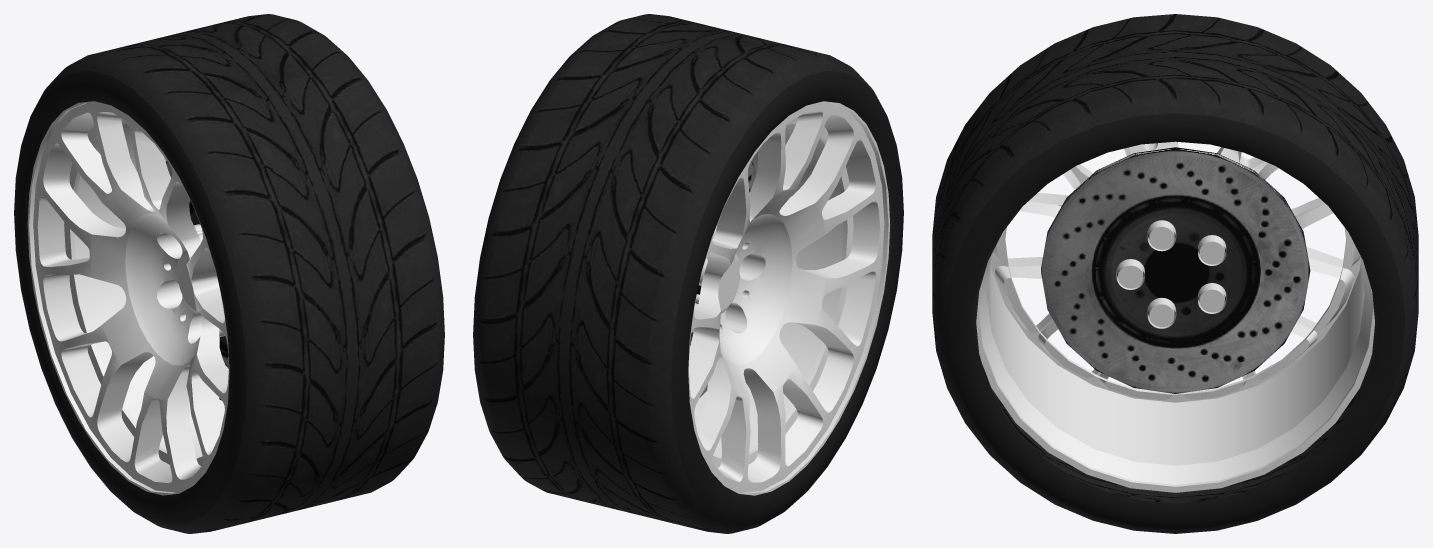
Rendered from 04_BBS_CH.fbx.
3 views of the same model, side by side, from view 1: azimuth 30°, elevation 25°; view 2: azimuth 150°, elevation 25°; view 3: azimuth 270°, elevation 25° (orthographic).
Visible parts, largest first — view 1: Combined No Name Object 0, BBS_CH, Combined co_contisportcontact_2_vmax_wall Object 0; view 2: Combined No Name Object 0, BBS_CH, Combined co_contisportcontact_2_vmax_wall Object 0; view 3: Combined No Name Object 0, BBS_CH, Rotor, Combined co_contisportcontact_2_vmax_wall Object 0.
Part boxes in pixels (<box>): Combined No Name Object 0: <box>14,14,444,533</box>; BBS_CH: <box>27,101,229,495</box>; Combined co_contisportcontact_2_vmax_wall Object 0: <box>14,70,246,525</box>; Combined No Name Object 0: <box>473,14,903,533</box>; BBS_CH: <box>688,101,890,495</box>; Combined co_contisportcontact_2_vmax_wall Object 0: <box>671,70,903,525</box>; Combined No Name Object 0: <box>932,14,1418,533</box>; BBS_CH: <box>976,141,1374,492</box>; Rotor: <box>1041,147,1310,393</box>; Combined co_contisportcontact_2_vmax_wall Object 0: <box>945,113,1405,530</box>.
Bounding box in the file's own units: 0.3334 × 0.688 × 0.688.
